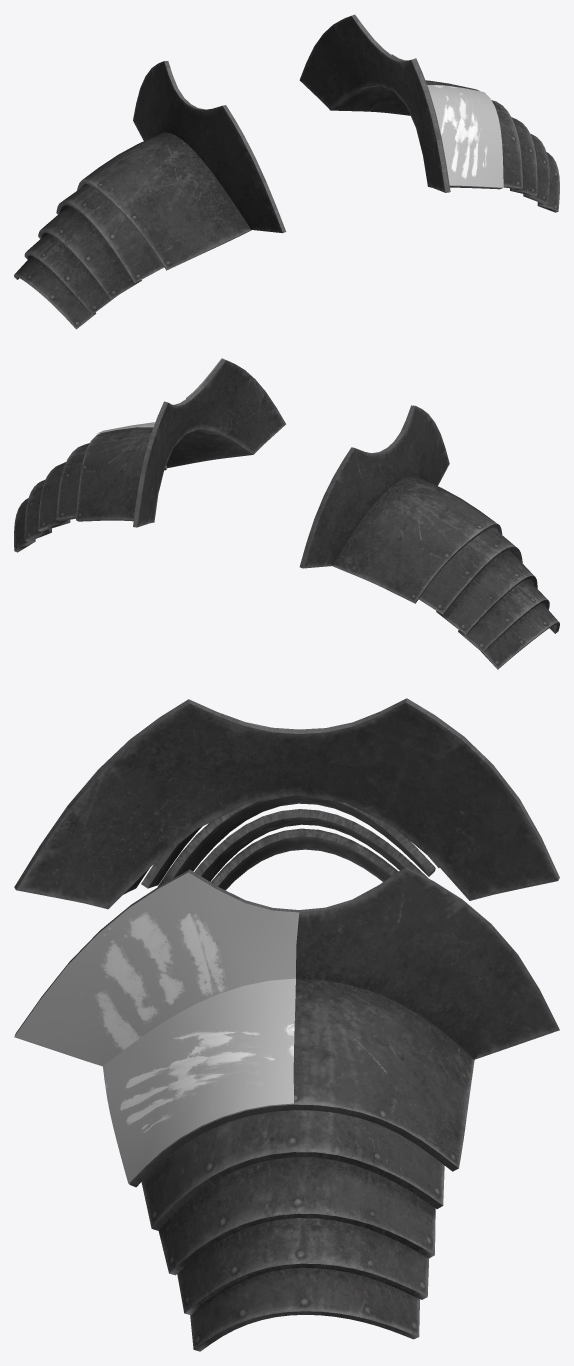
Rendered from sk_uruk_hai_pauldron_heavy_br3.fbx.
The picture shows the model from 3 angles, top to bottom: view 1: azimuth 30°, elevation 25°; view 2: azimuth 150°, elevation 25°; view 3: azimuth 270°, elevation 25°; orthographic projection. The views are drawn at different scales.
Visible parts, largest first — view 1: sk_uruk_hai_pauldron_heavy_br3.0, sk_uruk_hai_pauldron_heavy_br3.1; view 2: sk_uruk_hai_pauldron_heavy_br3.0; view 3: sk_uruk_hai_pauldron_heavy_br3.0, sk_uruk_hai_pauldron_heavy_br3.1.
Boxes of the visible parts, x1,y1,x2,y2 form: sk_uruk_hai_pauldron_heavy_br3.0: (14, 14, 559, 329); sk_uruk_hai_pauldron_heavy_br3.1: (391, 54, 503, 191); sk_uruk_hai_pauldron_heavy_br3.0: (14, 359, 559, 669); sk_uruk_hai_pauldron_heavy_br3.0: (14, 698, 559, 1351); sk_uruk_hai_pauldron_heavy_br3.1: (14, 872, 299, 1183).
Size of the model in its own units: 0.808 by 0.397 by 0.2834.
Materials: 2 (2 with a texture image).
